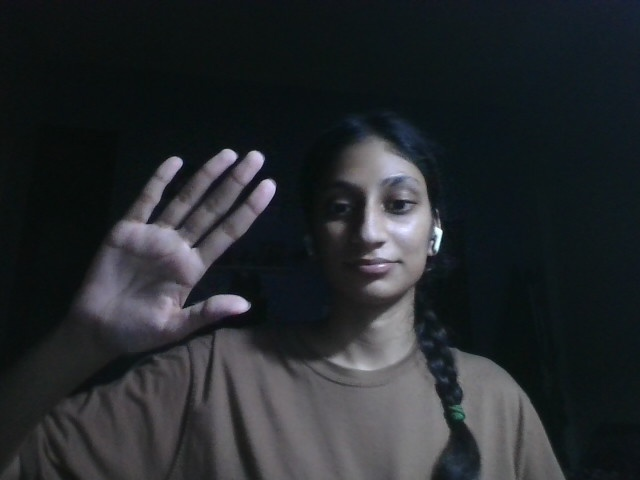hello: (70, 146, 278, 365)
